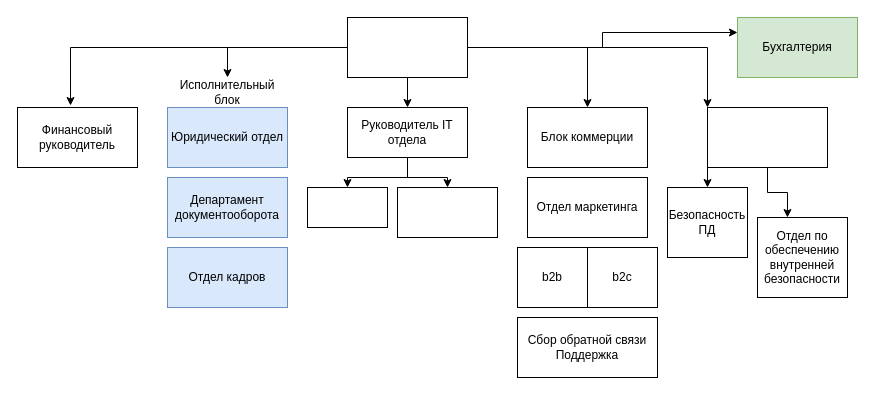
Image size: 875x395. Some labels were removed from this diagram. Here are the shapes that lost their labels. From the top down, the centre of each, then its label:
the point at 407,47: Генеральный директор
the point at 767,137: Отдел безопасности
the point at 347,207: Разработчики
the point at 447,212: Системные администраторы :)
